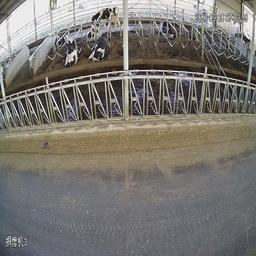cow: (87, 5, 117, 34), (88, 34, 110, 62), (63, 36, 79, 67), (159, 18, 176, 40)
